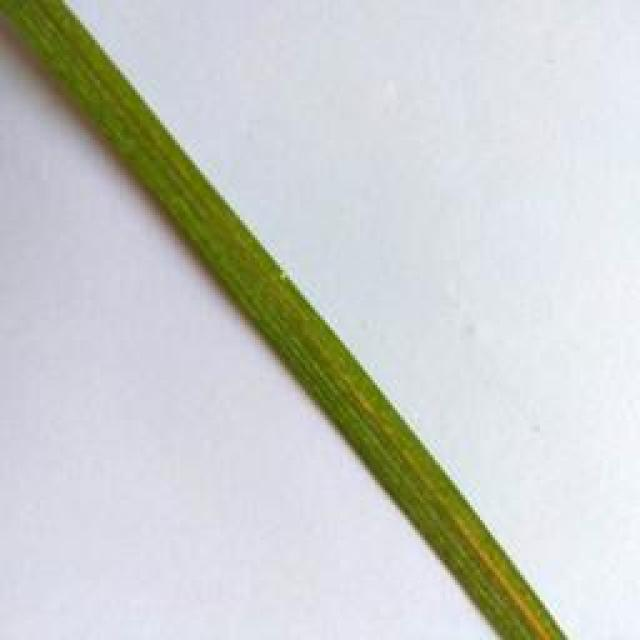Bacterial_Blight: (452, 510, 546, 640)
